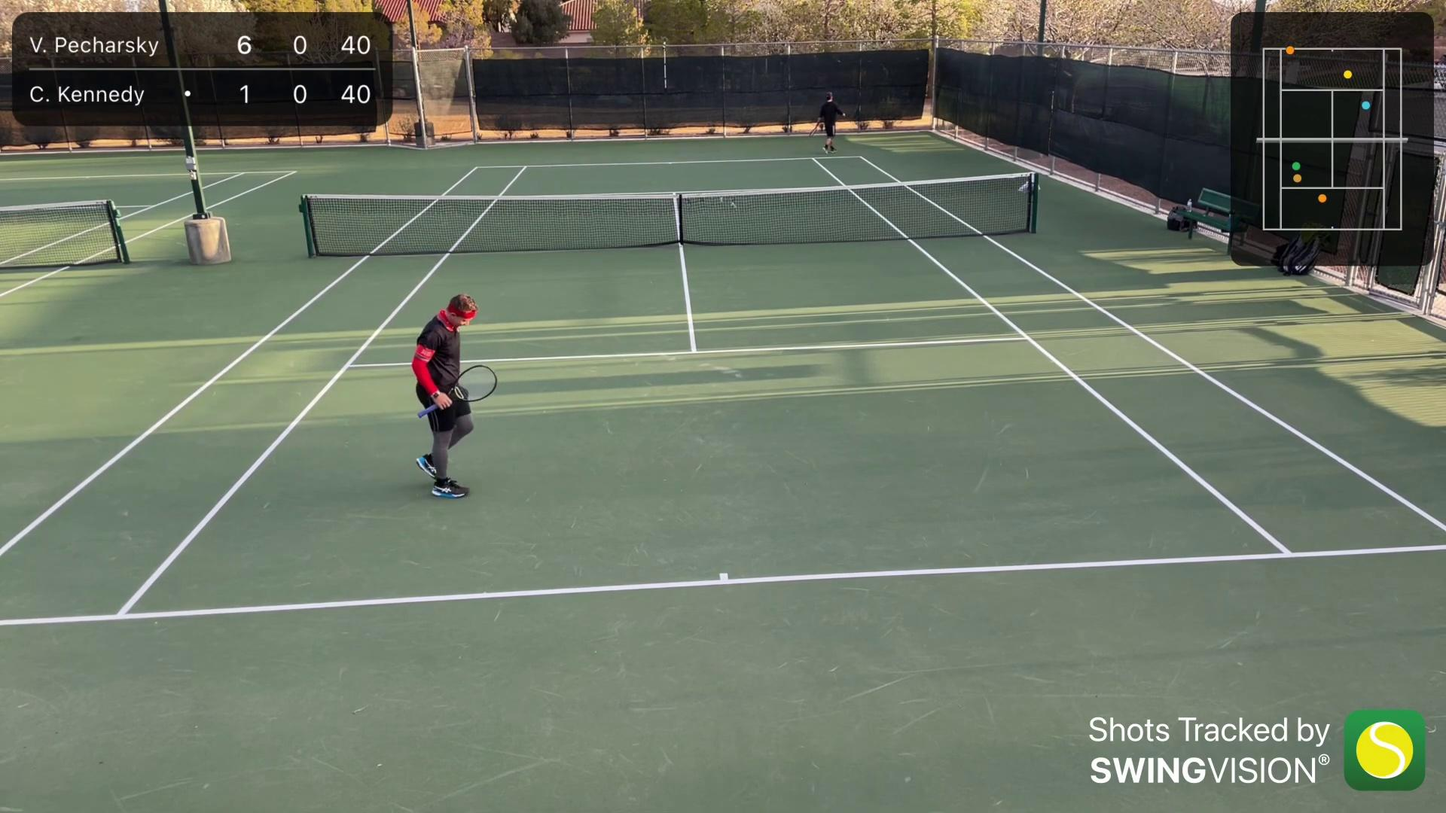ball: (953, 127, 959, 131)
